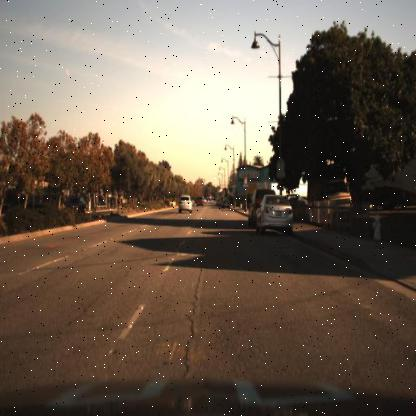car: (256, 191, 293, 235), (175, 190, 194, 216), (246, 190, 257, 232), (68, 195, 86, 215), (191, 191, 205, 210), (223, 196, 229, 208)
truck: (314, 152, 358, 224)
